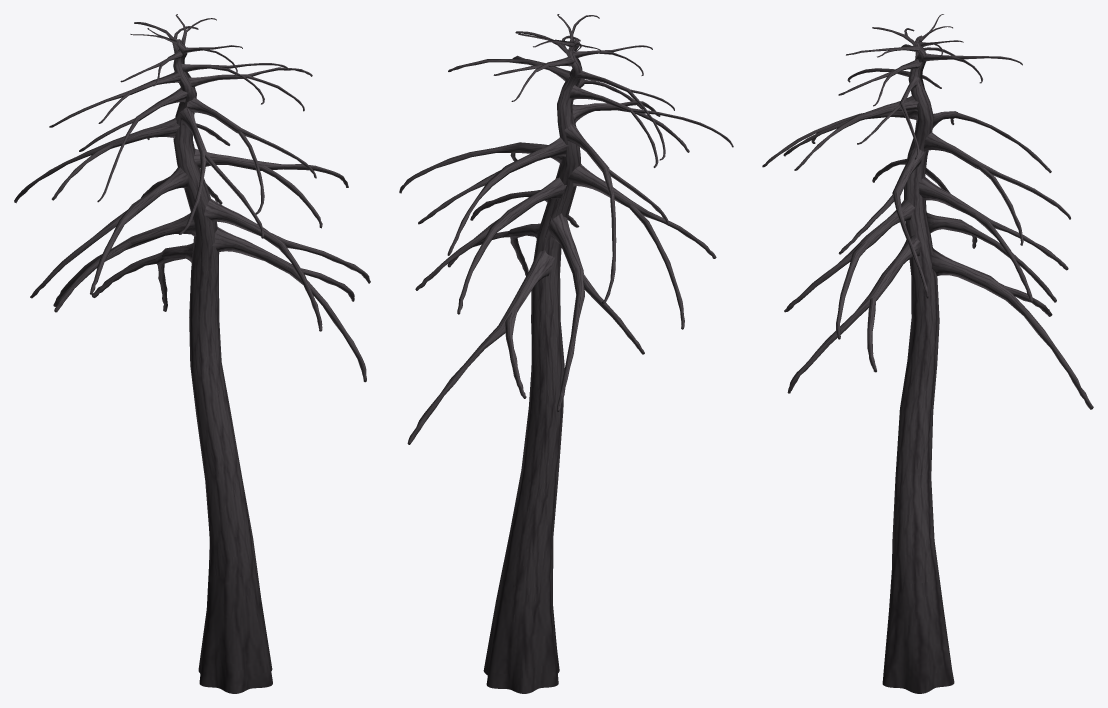
The model's file is olu_agac.glb.
3 renders of one model, left to right at view 1: azimuth 30°, elevation 25°; view 2: azimuth 150°, elevation 25°; view 3: azimuth 270°, elevation 25°, orthographic. The views are drawn at different scales.
Visible parts, largest first — view 1: DeadTree_3; view 2: DeadTree_3; view 3: DeadTree_3.
Part boxes in pixels (bbox=[...]): DeadTree_3: bbox=[14, 14, 370, 693]; DeadTree_3: bbox=[399, 14, 733, 693]; DeadTree_3: bbox=[762, 14, 1093, 693].
Size of the model in its own units: 6.39 by 13.28 by 6.43.
Materials: 1 (1 with a texture image).
